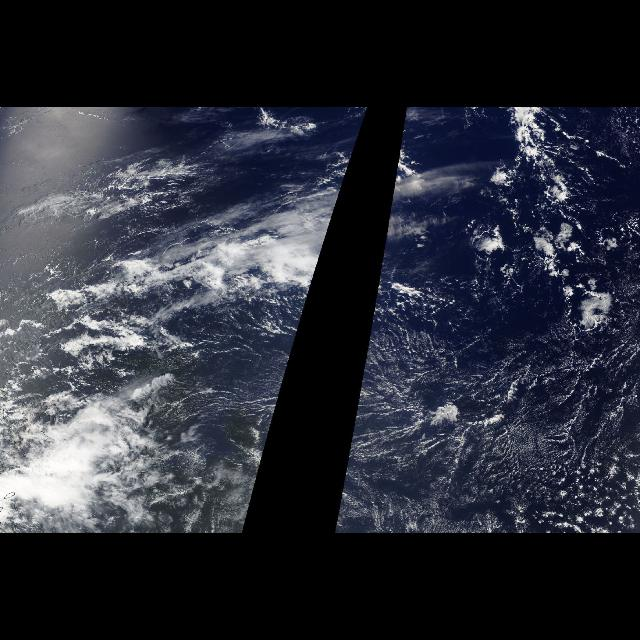Gravel: (472, 120, 614, 330), (4, 288, 110, 416)
Sugar: (345, 312, 637, 530), (171, 312, 305, 473)
